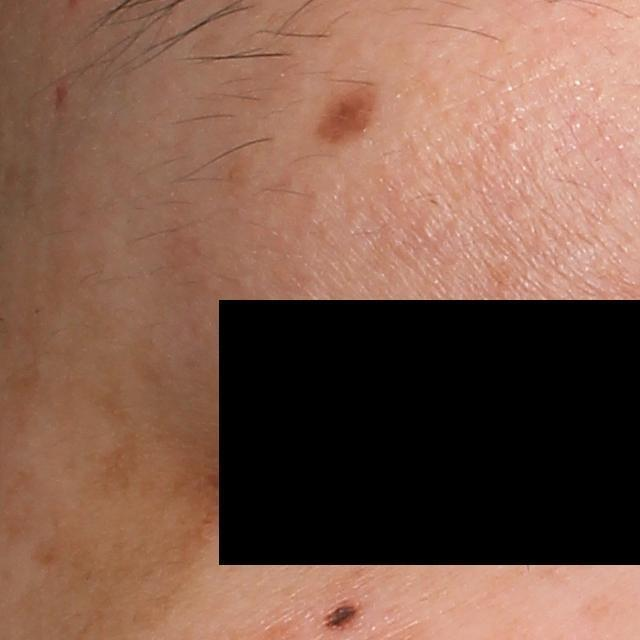melasma: (86, 388, 150, 506), (309, 86, 390, 139)
nevus: (316, 598, 365, 635)
papule: (52, 74, 72, 118)
